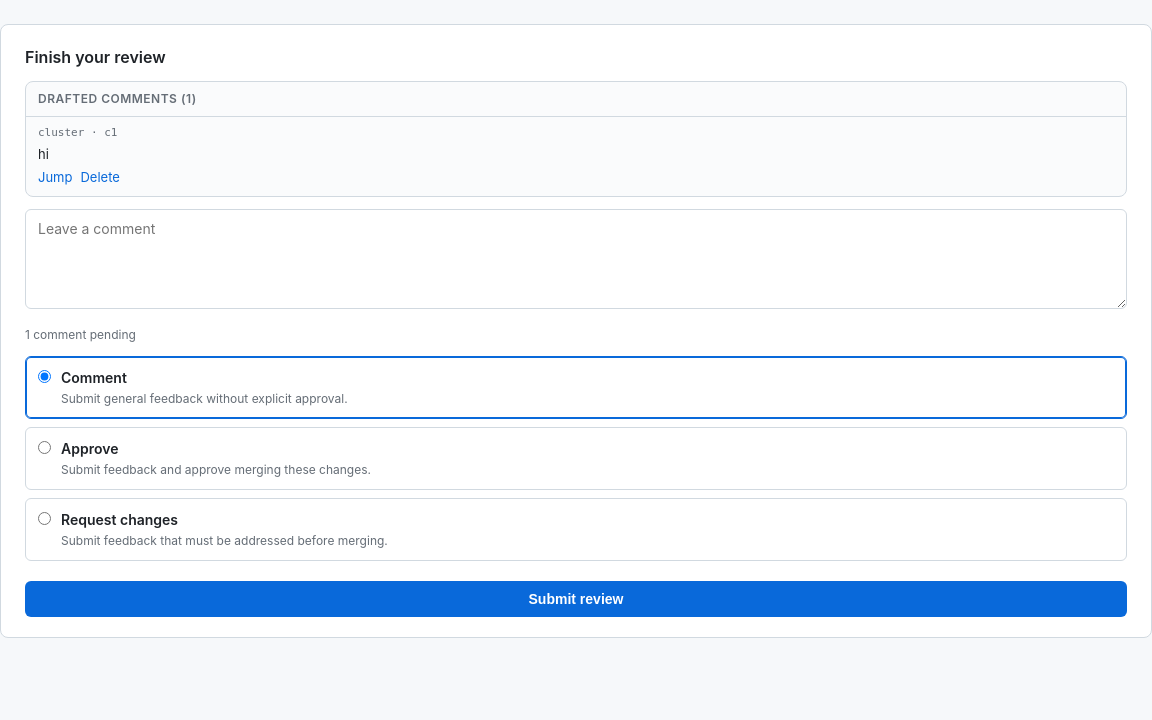
Test case: ReviewSubmitBar › orphan dialog wiring › dropping the last orphan closes the dialog
Click the button "Submit review": (576, 598) 25,580 -> 1127,616
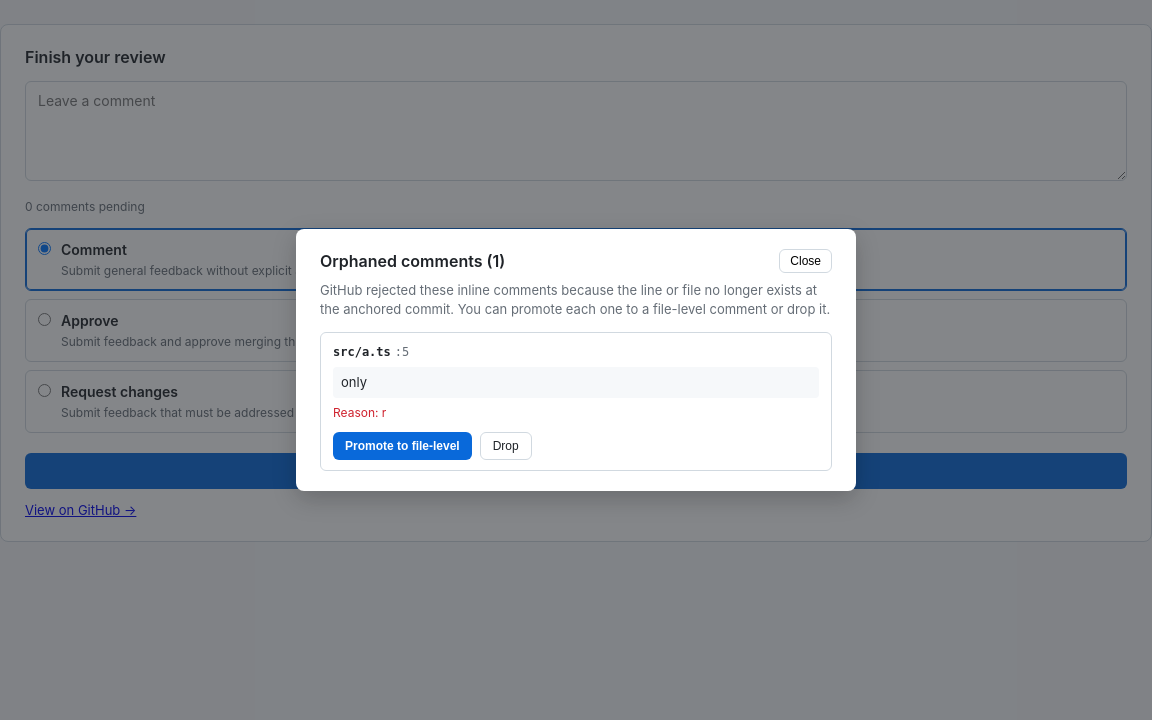
Now the dialog is shown, box 296,229 -> 856,491
Click the button "Drop": (506, 446) 480,432 -> 532,460
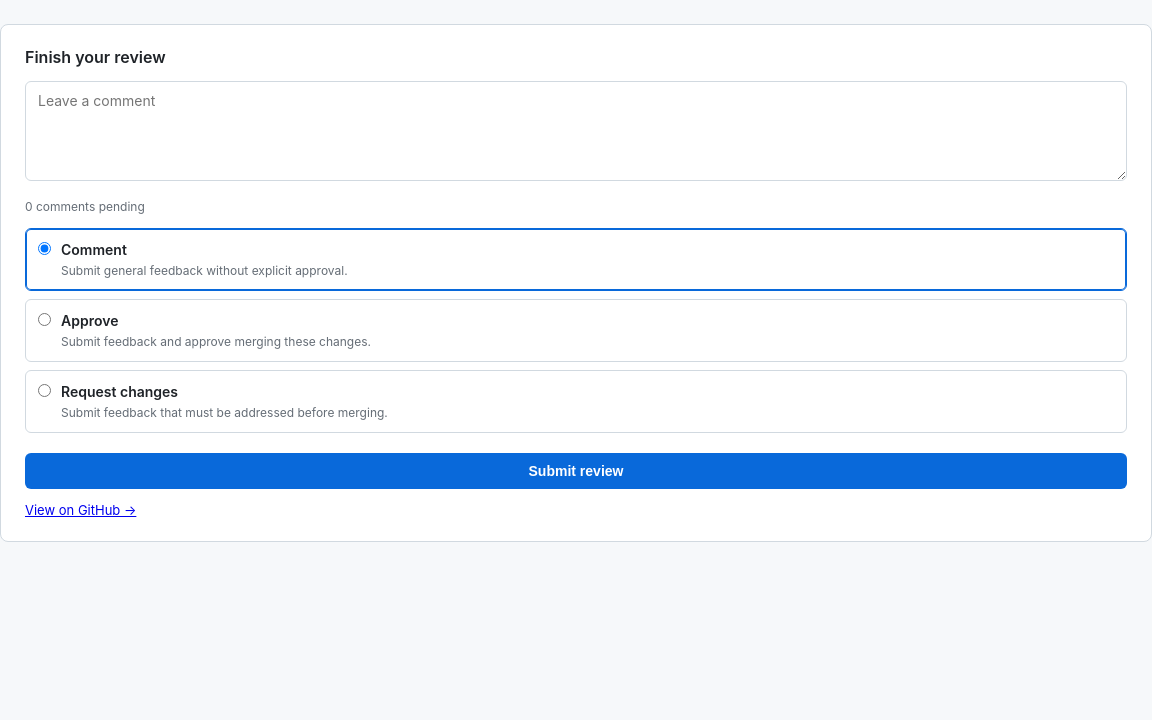
Now the dialog is gone
